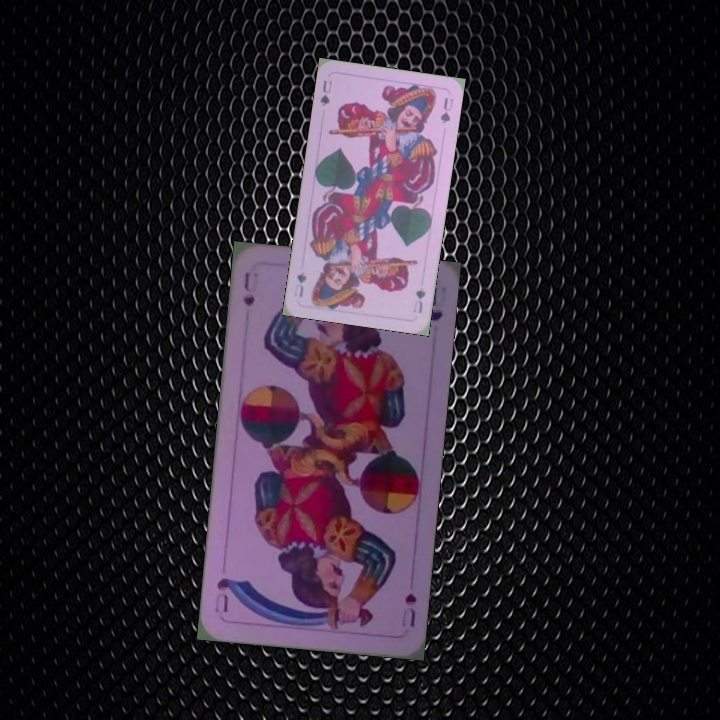GU: (316, 76, 335, 109), (409, 284, 428, 315)
SU: (397, 589, 419, 630), (239, 268, 257, 309)
